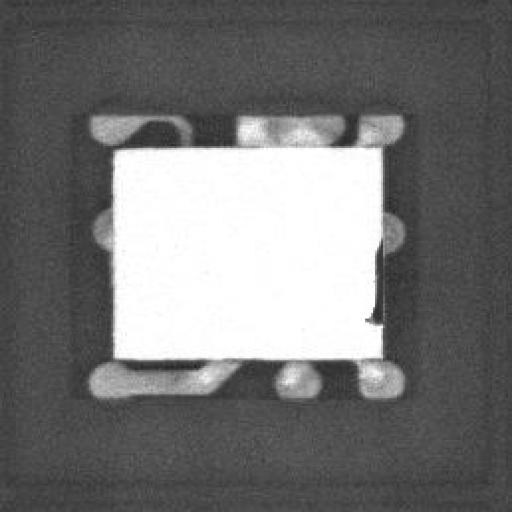DIE_BROKEN: (365, 233, 385, 330)
